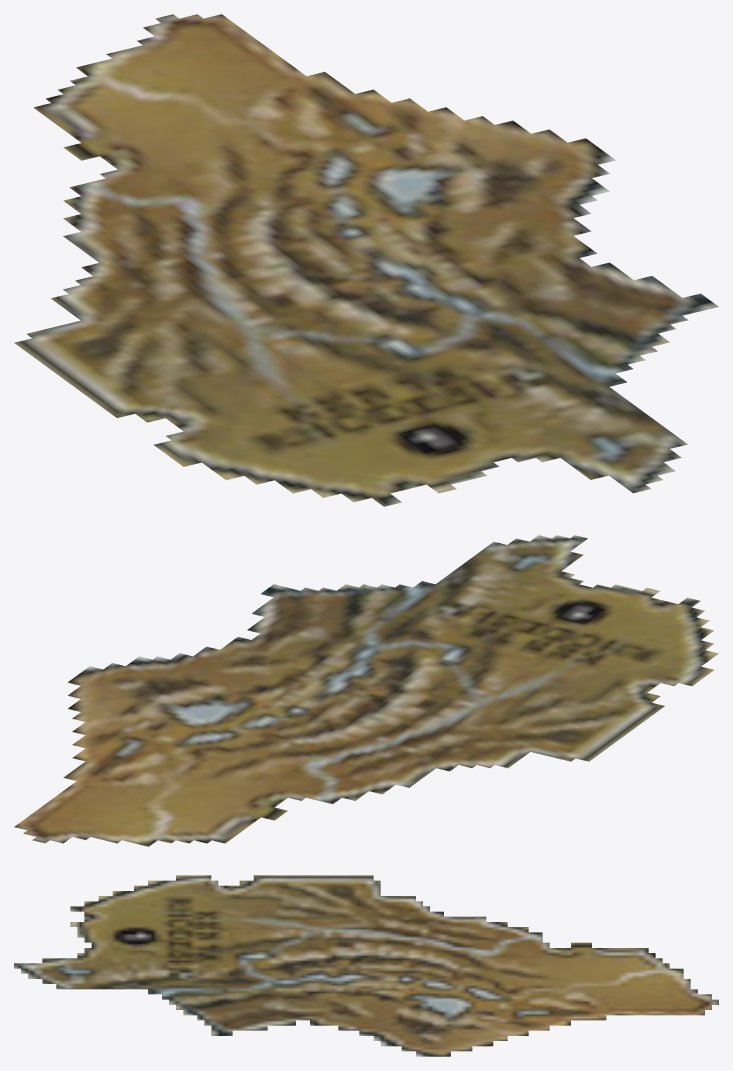
The model's file is kenya-rhodesia.gltf.
3 views of the same model, one above another, from view 1: azimuth 30°, elevation 25°; view 2: azimuth 150°, elevation 25°; view 3: azimuth 270°, elevation 25° (orthographic). The views are drawn at different scales.
Parts seen in each view (by area): view 1: Plane; view 2: Plane; view 3: Plane.
Boxes of the visible parts, x1=… form: Plane: x1=14, y1=14, x2=718, y2=506; Plane: x1=14, y1=535, x2=718, y2=846; Plane: x1=14, y1=875, x2=718, y2=1056.
Bounding box in the file's own units: 0.3456 × 0 × 0.5679.
1 material, 1 textured.
